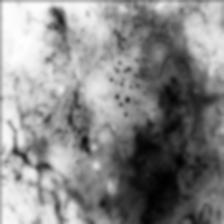Potentially Malignant Skin Tumors: (0, 2, 218, 224)
